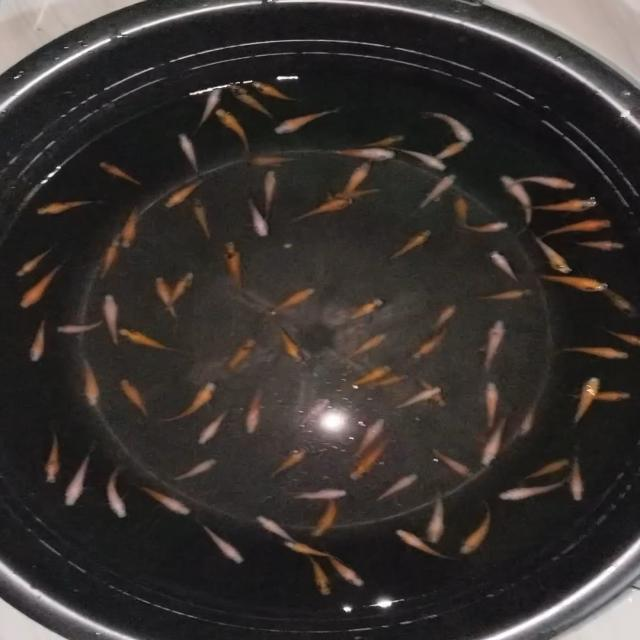nila: (18, 256, 74, 310), (196, 518, 250, 564), (498, 172, 538, 232), (163, 380, 218, 422), (394, 528, 457, 564), (62, 447, 96, 510), (272, 106, 341, 137), (474, 409, 510, 468), (458, 498, 494, 556), (534, 268, 608, 296), (424, 106, 476, 145), (530, 232, 576, 276), (136, 483, 198, 515), (262, 284, 320, 318), (211, 104, 252, 152), (338, 159, 377, 207), (227, 83, 274, 122), (415, 137, 472, 169), (351, 410, 389, 458), (491, 479, 570, 502), (384, 228, 436, 262), (348, 438, 390, 480), (404, 325, 454, 360), (477, 316, 507, 374), (114, 376, 150, 424), (326, 548, 366, 590), (540, 218, 616, 240), (161, 173, 206, 210), (600, 281, 640, 321), (250, 514, 300, 546), (116, 326, 176, 352), (194, 406, 232, 447), (27, 195, 104, 215), (339, 295, 387, 327), (13, 244, 58, 278), (432, 446, 478, 479), (374, 471, 420, 504), (266, 444, 308, 480), (220, 336, 256, 378), (574, 374, 604, 424), (106, 461, 130, 522), (223, 239, 250, 293), (100, 292, 126, 348), (161, 270, 194, 314), (175, 130, 204, 180), (394, 383, 444, 412), (416, 174, 458, 208), (392, 146, 449, 171), (426, 482, 448, 546), (154, 272, 180, 326), (501, 174, 578, 192), (169, 454, 218, 482), (78, 356, 104, 408), (294, 200, 350, 224), (247, 80, 302, 104), (274, 320, 304, 364), (42, 426, 64, 486), (314, 491, 342, 538), (345, 362, 393, 389), (296, 396, 332, 432), (345, 330, 388, 360), (94, 160, 143, 186), (191, 88, 221, 130), (561, 344, 631, 362), (522, 197, 600, 213), (121, 198, 144, 252), (516, 390, 541, 438), (416, 375, 452, 408), (466, 286, 540, 302), (326, 147, 398, 163), (190, 193, 214, 240), (308, 555, 332, 602), (245, 194, 270, 238), (524, 458, 572, 480), (27, 318, 49, 366), (570, 445, 588, 503), (452, 192, 474, 239), (98, 236, 122, 278), (240, 153, 302, 169), (490, 250, 520, 282), (247, 387, 265, 440), (320, 186, 388, 200), (424, 306, 458, 334), (260, 169, 280, 216), (52, 318, 104, 336), (290, 485, 352, 500), (568, 388, 634, 402), (456, 220, 510, 237), (284, 539, 332, 558), (364, 370, 412, 388), (362, 134, 407, 150), (482, 380, 498, 422), (601, 328, 640, 343), (576, 241, 628, 250)
